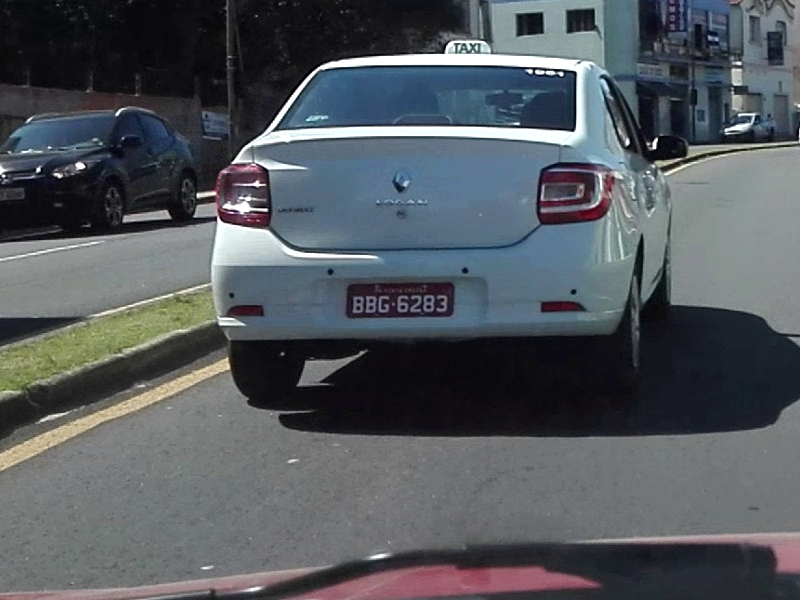placa: (346, 282, 454, 318)
